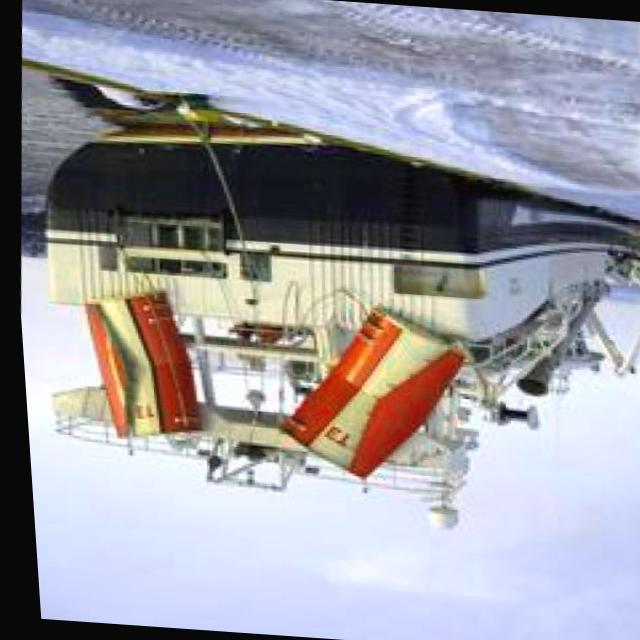ship2: (41, 95, 640, 530)
